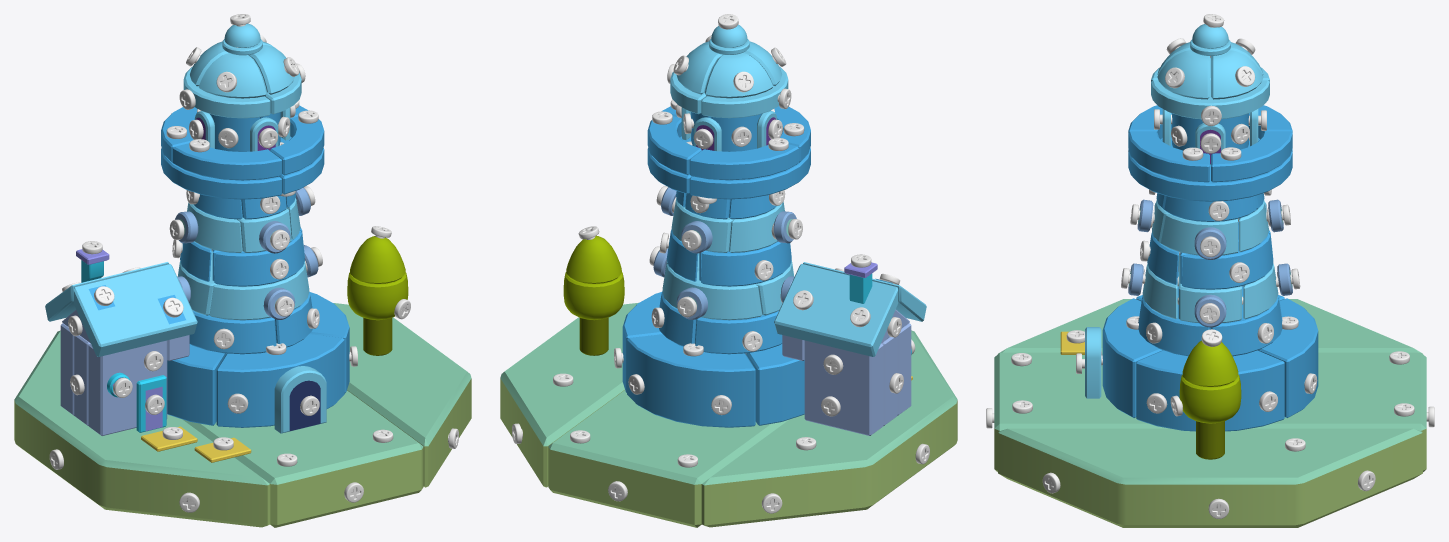
The model's file is lvl_56.fbx.
3 renders of one model, left to right at view 1: azimuth 30°, elevation 25°; view 2: azimuth 150°, elevation 25°; view 3: azimuth 270°, elevation 25°, orthographic.
Visible parts, largest first — view 1: Cube_L4, Cube_L4_1, Cube_L4_2, Cube_L3_6, Cube_L3_17, Cube_L3_4, Cube_L3_14, Cube_L1_2, Cube_L3_16, Cube_L2_16, Cube_L2_11, Cube_L2_4 (+30 smaller); view 2: Cube_L4, Cube_L4_1, Cube_L4_2, Cube_L3_15, Cube_L3_7, Cube_L3_5, Cube_L3_14, Cube_L1_3, Cube_L2_6, Cube_L2_13, Cube_L2_5, Cube_L1_1 (+26 smaller); view 3: Cube_L4_2, Cube_L4_1, Cube_L3_18, Cube_L4, Cube_L3_17, Cube_L3_15, Cube_L1_18, Cube_L2_20, Cube_L1_16, Cube_L1_17, Cube_L1_15, Cube_L4_5 (+21 smaller).
Boxes of the visible parts, left/top/right/bottom form: Cube_L4: left=14, top=330, right=270, bottom=527; Cube_L4_1: left=182, top=390, right=423, bottom=527; Cube_L4_2: left=333, top=303, right=471, bottom=487; Cube_L3_6: left=73, top=264, right=197, bottom=356; Cube_L3_17: left=216, top=334, right=344, bottom=427; Cube_L3_4: left=88, top=340, right=167, bottom=435; Cube_L3_14: left=167, top=344, right=225, bottom=425; Cube_L1_2: left=173, top=143, right=282, bottom=180; Cube_L3_16: left=274, top=366, right=326, bottom=433; Cube_L2_16: left=214, top=232, right=304, bottom=286; Cube_L2_11: left=209, top=264, right=309, bottom=320; Cube_L2_4: left=189, top=310, right=276, bottom=354; Cube_L4: left=701, top=330, right=957, bottom=527; Cube_L4_1: left=548, top=390, right=788, bottom=527; Cube_L4_2: left=500, top=302, right=638, bottom=487; Cube_L3_15: left=627, top=334, right=755, bottom=427; Cube_L3_7: left=774, top=264, right=898, bottom=356; Cube_L3_5: left=804, top=340, right=883, bottom=435; Cube_L3_14: left=746, top=344, right=804, bottom=425; Cube_L1_3: left=689, top=144, right=798, bottom=180; Cube_L2_6: left=701, top=241, right=791, bottom=286; Cube_L2_13: left=662, top=264, right=762, bottom=320; Cube_L2_5: left=694, top=310, right=782, bottom=354; Cube_L1_1: left=689, top=147, right=810, bottom=199; Cube_L4_2: left=998, top=428, right=1422, bottom=527; Cube_L4_1: left=994, top=352, right=1426, bottom=471; Cube_L3_18: left=1136, top=350, right=1284, bottom=431; Cube_L4: left=998, top=299, right=1422, bottom=353; Cube_L3_17: left=1102, top=298, right=1162, bottom=417; Cube_L3_15: left=1258, top=298, right=1318, bottom=417; Cube_L1_18: left=1128, top=151, right=1292, bottom=201; Cube_L2_20: left=1182, top=234, right=1273, bottom=289; Cube_L1_16: left=1128, top=131, right=1209, bottom=182; Cube_L1_17: left=1211, top=131, right=1292, bottom=182; Cube_L1_15: left=1151, top=80, right=1269, bottom=119; Cube_L4_5: left=1179, top=375, right=1241, bottom=423.
Size of the model in its own units: 5.87 by 6.08 by 5.86.
